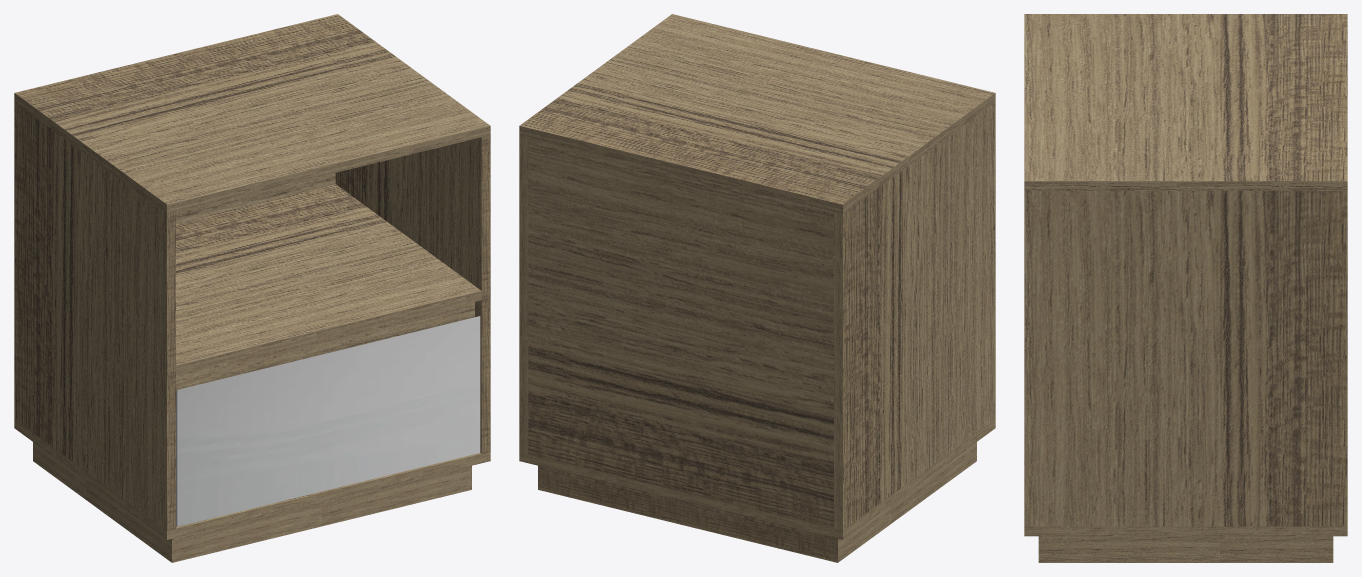
Rendered from 001_Mesa-de-Noche.glb.
3 views of the same model, side by side, from view 1: azimuth 30°, elevation 25°; view 2: azimuth 150°, elevation 25°; view 3: azimuth 270°, elevation 25° (orthographic). The views are drawn at different scales.
Parts seen in each view (by area): view 1: root; view 2: root; view 3: root.
Part boxes in pixels (left/top/right/bottom): root: left=14, top=14, right=490, bottom=562; root: left=519, top=14, right=995, bottom=562; root: left=1024, top=14, right=1347, bottom=562.
Size of the model in its own units: 0.5501 by 0.595 by 0.45.
Materials: 5 (5 with a texture image).
